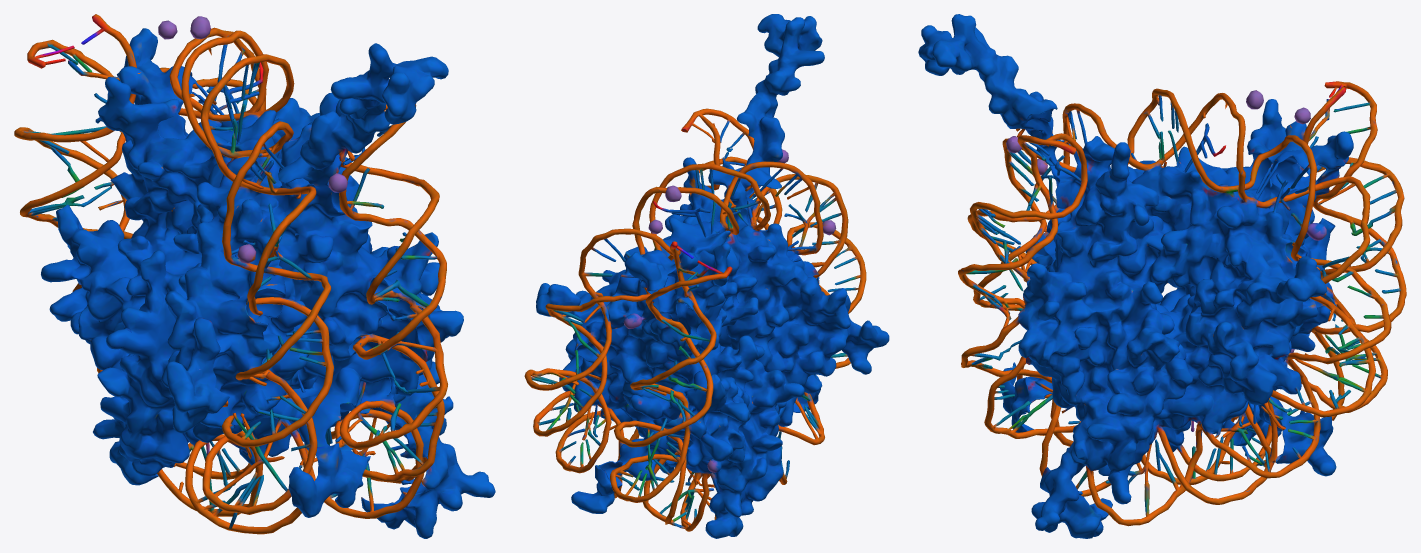
The model's file is Nucleosome.glb.
3 views of the same model, side by side, from view 1: azimuth 30°, elevation 25°; view 2: azimuth 150°, elevation 25°; view 3: azimuth 270°, elevation 25° (orthographic). The views are drawn at different scales.
Visible parts, largest first — view 1: tripo_node_963fc25a-7727-4f94-b712-9b958e1f44ea; view 2: tripo_node_963fc25a-7727-4f94-b712-9b958e1f44ea; view 3: tripo_node_963fc25a-7727-4f94-b712-9b958e1f44ea.
Boxes of the visible parts, x1,y1,x2,y2 form: tripo_node_963fc25a-7727-4f94-b712-9b958e1f44ea: (14,14,495,538); tripo_node_963fc25a-7727-4f94-b712-9b958e1f44ea: (524,14,889,538); tripo_node_963fc25a-7727-4f94-b712-9b958e1f44ea: (918,14,1406,538).
Bounding box in the file's own units: 0.6039 × 1 × 0.9157.
Materials: 1 (1 with a texture image).
